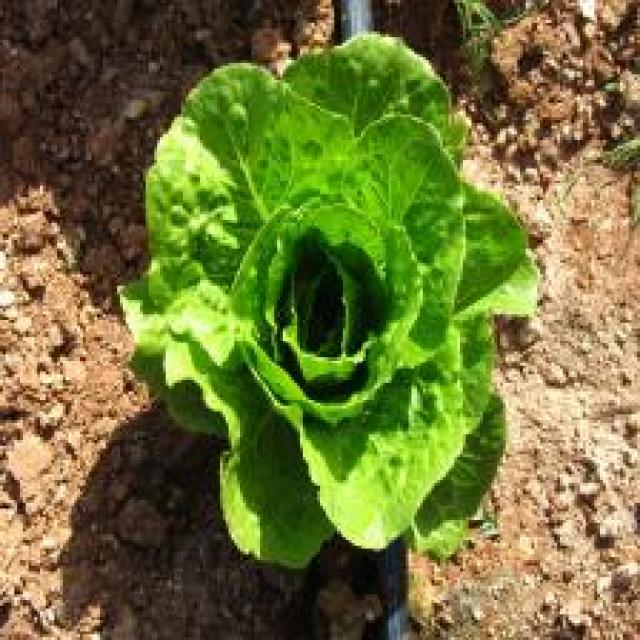Lettuce: (120, 32, 538, 561)
